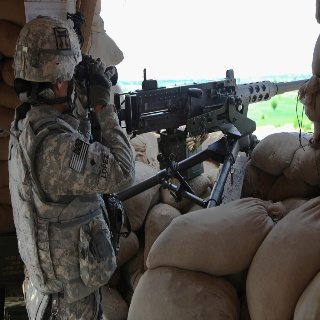rifle: (111, 72, 317, 206)
